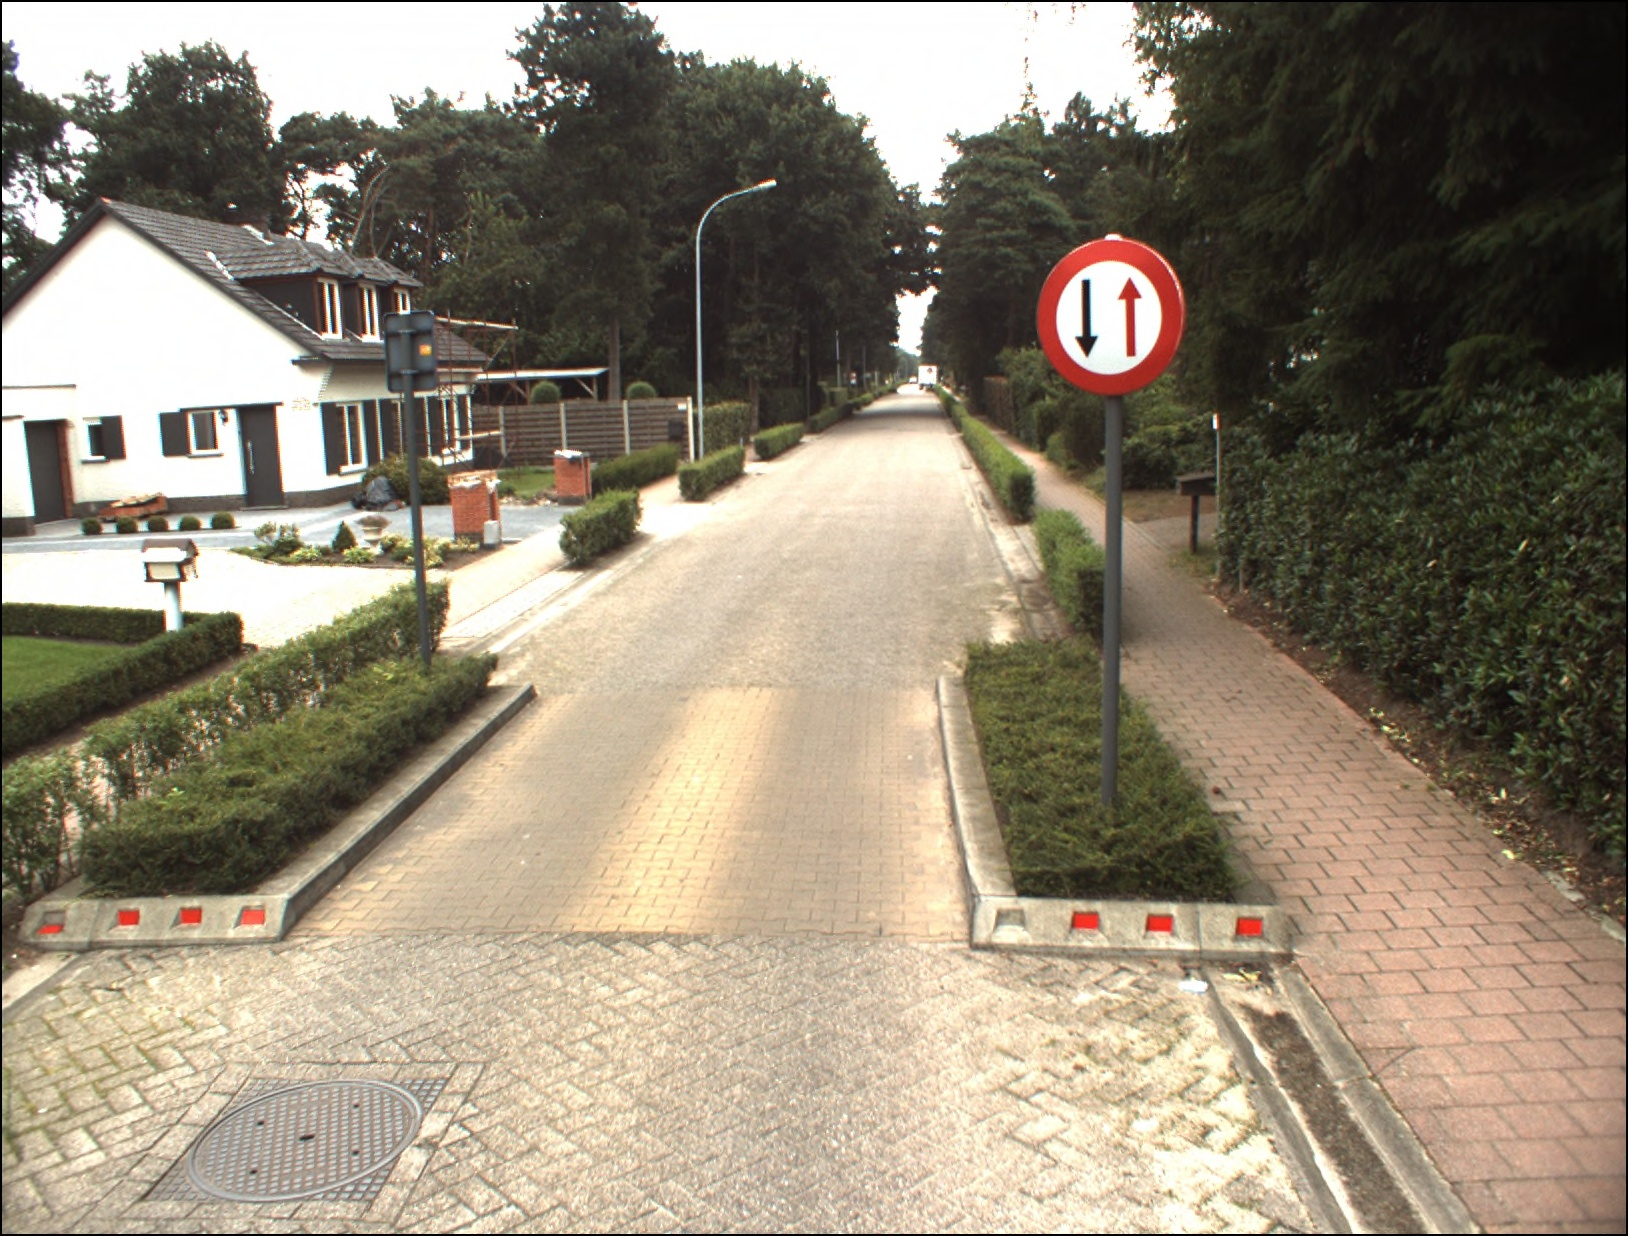roadnarrow2: (1035, 235, 1181, 393)
